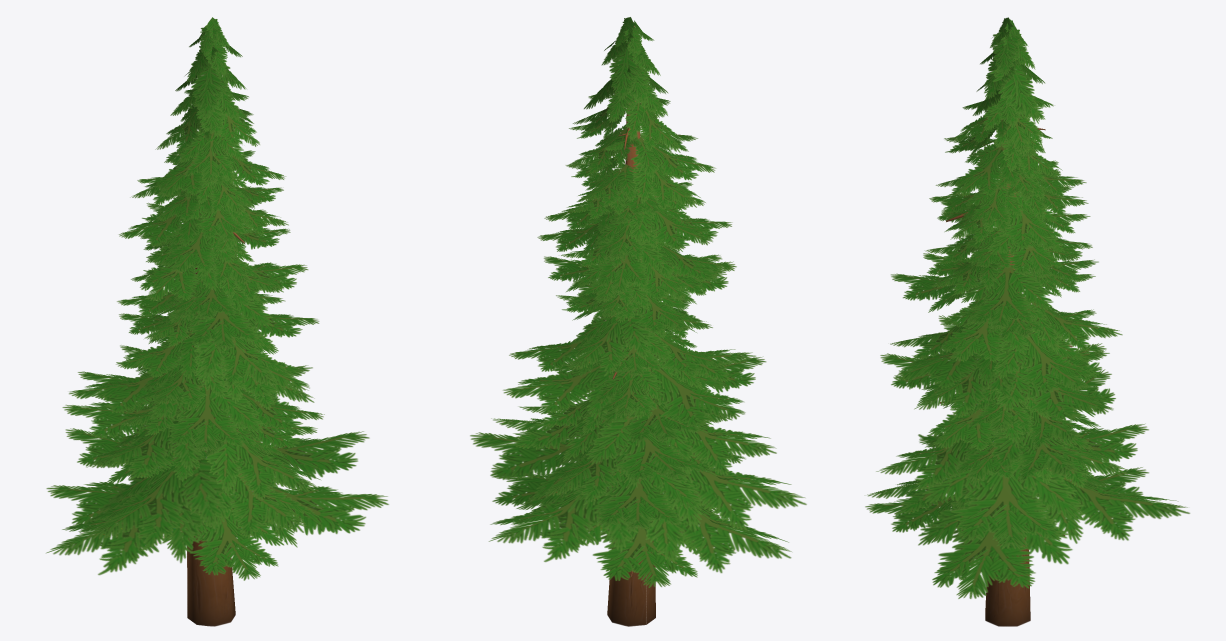
File: SM_Nature_Tree_02.glb
The picture shows the model from 3 angles, left to right: view 1: azimuth 30°, elevation 25°; view 2: azimuth 150°, elevation 25°; view 3: azimuth 270°, elevation 25°; orthographic projection.
Parts seen in each view (by area): view 1: Tree_02_LOD0; view 2: Tree_02_LOD0; view 3: Tree_02_LOD0.
Part boxes in pixels (x1,y1,x2,y2): Tree_02_LOD0: (46, 17, 388, 626); Tree_02_LOD0: (470, 17, 806, 626); Tree_02_LOD0: (865, 17, 1189, 626).
Size of what is drawn, in the model's own units: 3.74 by 6.41 by 3.47.
Materials: 2 (2 with a texture image).
